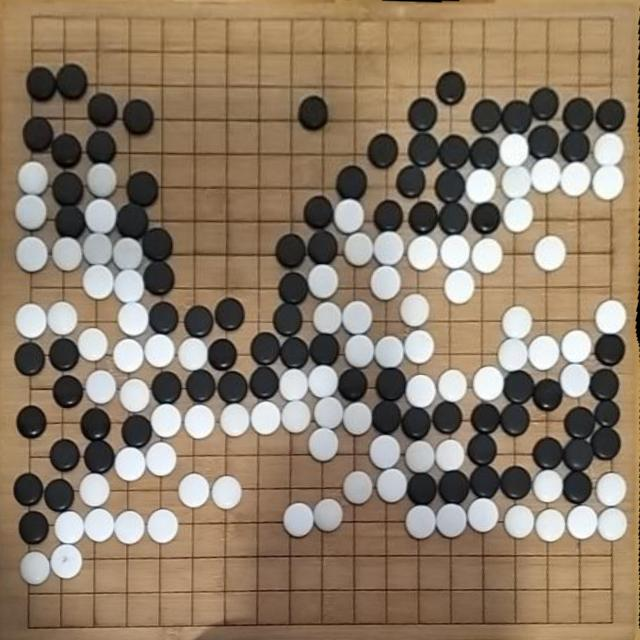blackstone: (22, 116, 54, 154), (562, 437, 596, 472), (126, 171, 159, 207), (116, 203, 149, 239), (438, 470, 471, 506), (275, 233, 307, 270), (52, 171, 84, 208), (122, 98, 154, 135), (143, 261, 175, 297), (52, 374, 84, 410), (84, 439, 116, 475), (56, 64, 88, 100), (18, 510, 50, 546), (468, 466, 501, 500), (336, 165, 368, 200), (306, 230, 338, 265), (49, 338, 81, 373), (51, 133, 83, 168), (528, 125, 560, 160), (408, 133, 440, 168), (563, 97, 595, 132), (590, 426, 622, 461), (14, 341, 45, 377), (87, 92, 118, 128), (435, 168, 466, 204), (26, 66, 57, 102), (142, 228, 174, 262), (86, 130, 118, 164), (594, 334, 626, 368), (122, 414, 154, 448), (49, 439, 81, 473), (564, 406, 596, 440), (503, 370, 535, 404), (438, 134, 470, 168), (375, 368, 407, 402), (16, 405, 48, 439), (532, 437, 564, 471), (500, 466, 532, 500), (406, 472, 437, 507), (532, 378, 564, 411), (54, 205, 86, 238), (278, 270, 309, 304), (273, 302, 304, 336), (80, 408, 111, 442), (217, 370, 248, 404), (151, 371, 182, 405), (589, 368, 620, 402), (438, 201, 469, 235), (501, 100, 532, 134), (560, 129, 591, 163), (500, 403, 531, 437), (595, 98, 626, 132), (562, 471, 593, 505), (298, 96, 329, 130), (304, 196, 334, 231), (251, 332, 281, 367), (14, 473, 44, 508), (148, 302, 180, 334), (183, 305, 214, 338), (432, 402, 463, 435), (215, 297, 245, 331), (368, 134, 398, 168), (396, 165, 426, 199), (249, 366, 279, 400), (471, 100, 501, 134), (186, 369, 216, 403), (530, 87, 560, 121), (468, 432, 498, 466), (44, 479, 74, 513), (372, 401, 402, 435), (374, 200, 404, 233), (408, 201, 438, 234), (471, 202, 501, 235), (408, 98, 438, 131), (436, 72, 466, 105), (402, 406, 432, 439), (208, 339, 238, 371), (310, 334, 340, 366), (471, 136, 499, 170), (281, 336, 309, 369), (340, 369, 368, 402), (471, 404, 500, 434)
whitestone: (16, 235, 50, 274), (533, 235, 567, 273), (15, 194, 48, 232), (50, 543, 84, 579), (112, 338, 146, 373), (84, 198, 118, 233), (375, 468, 409, 503), (117, 302, 150, 338), (439, 234, 472, 270), (82, 264, 115, 300), (85, 369, 118, 405), (307, 263, 340, 299), (471, 238, 504, 274), (472, 366, 505, 402), (369, 434, 402, 470), (15, 303, 48, 339), (594, 300, 627, 336), (147, 508, 180, 544), (566, 505, 599, 541), (146, 442, 178, 479), (77, 327, 110, 362), (19, 551, 52, 586), (113, 268, 145, 304), (144, 333, 176, 369), (119, 377, 151, 413), (82, 232, 114, 268), (373, 231, 405, 267), (528, 335, 560, 371), (370, 265, 402, 301), (184, 404, 216, 440), (114, 447, 146, 483), (560, 330, 592, 366), (465, 168, 497, 204), (530, 157, 562, 193), (250, 401, 282, 437), (560, 162, 592, 198), (79, 473, 111, 509), (334, 198, 366, 234), (178, 473, 210, 509), (84, 507, 116, 543), (468, 498, 500, 534), (54, 510, 86, 546), (436, 502, 468, 538), (592, 164, 624, 200), (405, 504, 437, 540), (150, 404, 182, 439), (52, 236, 84, 271), (406, 236, 438, 271), (502, 198, 534, 233), (219, 403, 251, 438), (532, 469, 564, 504), (86, 163, 118, 198), (114, 510, 146, 545), (211, 475, 243, 510), (534, 508, 566, 543), (283, 502, 315, 537), (596, 507, 628, 542), (559, 363, 590, 399), (595, 472, 626, 508), (496, 338, 528, 372), (405, 374, 437, 408), (47, 302, 79, 336), (374, 336, 406, 370), (404, 439, 436, 473), (308, 428, 340, 462), (498, 132, 530, 166), (17, 161, 49, 195), (404, 330, 435, 365), (444, 270, 475, 305), (343, 471, 374, 506), (504, 504, 535, 539), (112, 237, 144, 270), (344, 334, 375, 368), (307, 364, 338, 398), (342, 301, 373, 335), (342, 402, 373, 436), (313, 499, 344, 533), (501, 306, 533, 338), (279, 368, 310, 401), (281, 400, 312, 433), (178, 337, 208, 371), (344, 232, 374, 266), (314, 396, 344, 430), (502, 164, 532, 198), (313, 301, 343, 335), (438, 369, 468, 403), (400, 294, 430, 328), (594, 132, 624, 166), (435, 439, 465, 472)
